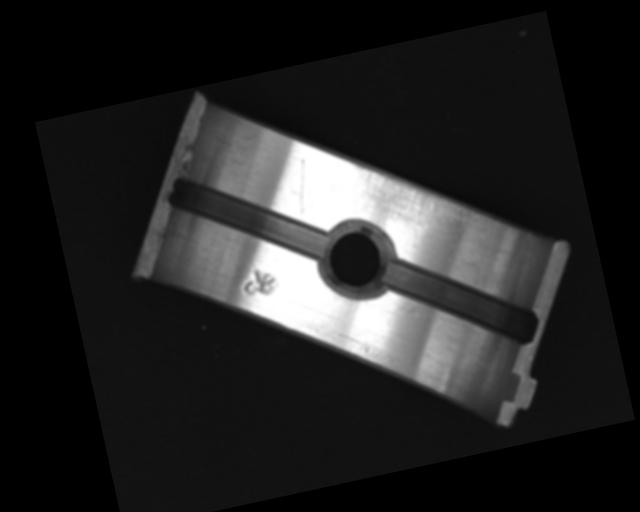bruise: (237, 259, 281, 300)
gap: (377, 233, 543, 370), (165, 151, 331, 284)
hole: (311, 215, 403, 310)
nick: (287, 158, 316, 217)
scratch: (348, 138, 481, 256)
